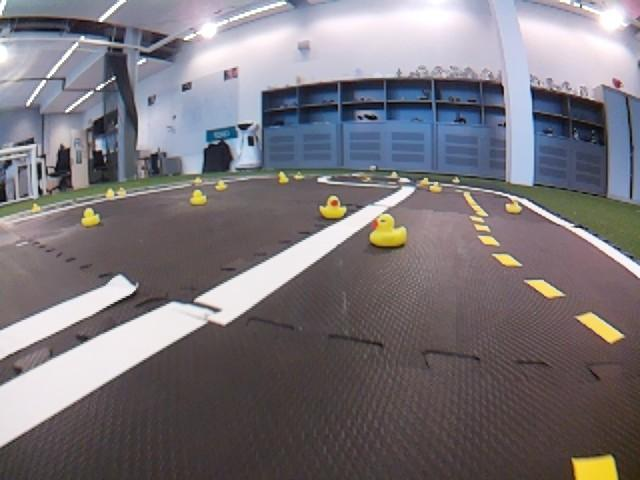Duckies: (371, 215, 407, 247), (318, 195, 346, 219), (81, 209, 100, 226), (190, 190, 206, 205), (506, 199, 521, 213), (278, 171, 289, 183), (215, 181, 227, 191), (430, 183, 441, 192), (294, 171, 304, 180), (117, 187, 127, 196), (420, 177, 431, 185), (31, 204, 41, 212), (106, 189, 114, 198), (194, 176, 202, 183), (453, 177, 460, 183), (391, 172, 398, 177)
